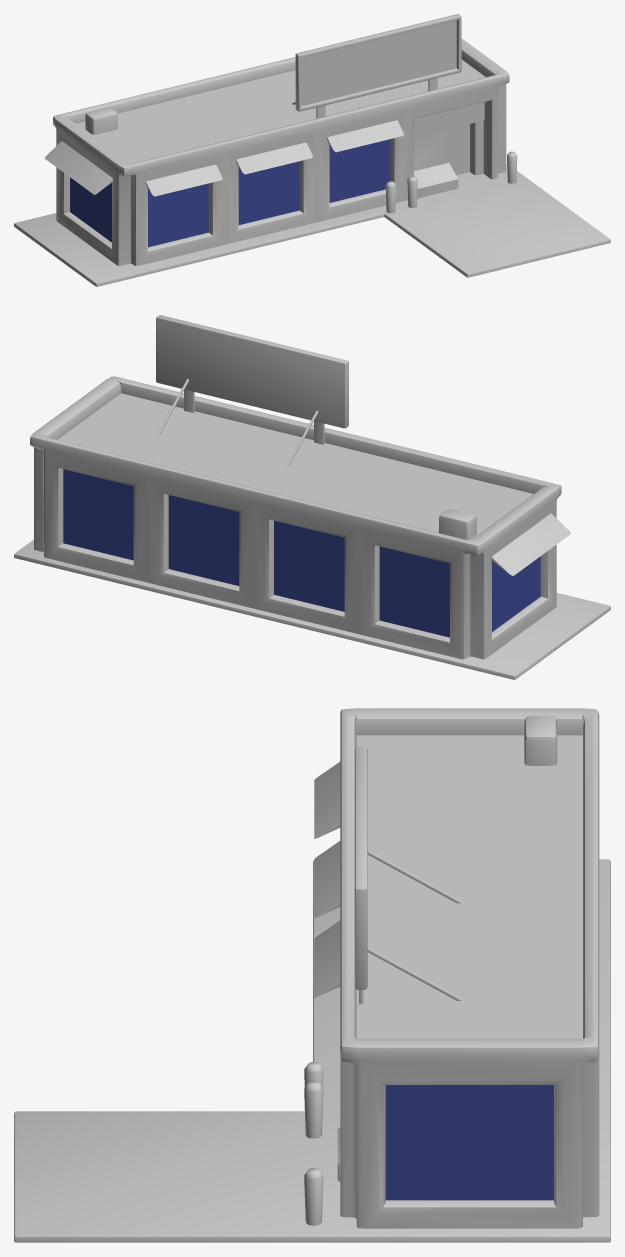
File: tienda.fbx
3 views of the same model, one above another, from view 1: azimuth 30°, elevation 25°; view 2: azimuth 150°, elevation 25°; view 3: azimuth 270°, elevation 25° (orthographic). The views are drawn at different scales.
Visible parts, largest first — view 1: bomba de calor004, edificio002, Object007; view 2: edificio002, bomba de calor004, Object007; view 3: edificio002, bomba de calor004, Object007.
Part boxes in pixels (x1,y1,x2,y2): bomba de calor004: (14, 14, 610, 286); edificio002: (53, 38, 509, 265); Object007: (70, 139, 390, 247); edificio002: (30, 376, 561, 659); bomba de calor004: (14, 315, 610, 679); Object007: (63, 469, 540, 637); edificio002: (340, 708, 599, 1228); bomba de calor004: (14, 715, 610, 1242); Object007: (385, 1085, 553, 1200).
Size of the model in its own units: 300 by 114 by 200.
